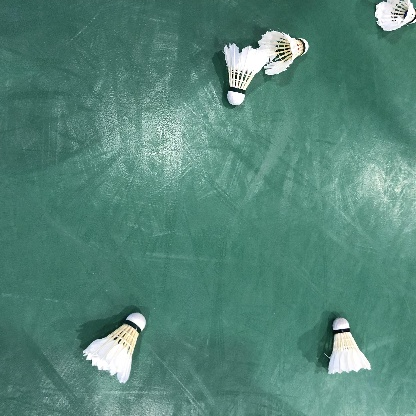ball_single: (83, 312, 146, 384), (224, 43, 270, 105), (328, 318, 371, 374), (258, 30, 309, 75), (374, 0, 416, 31)
